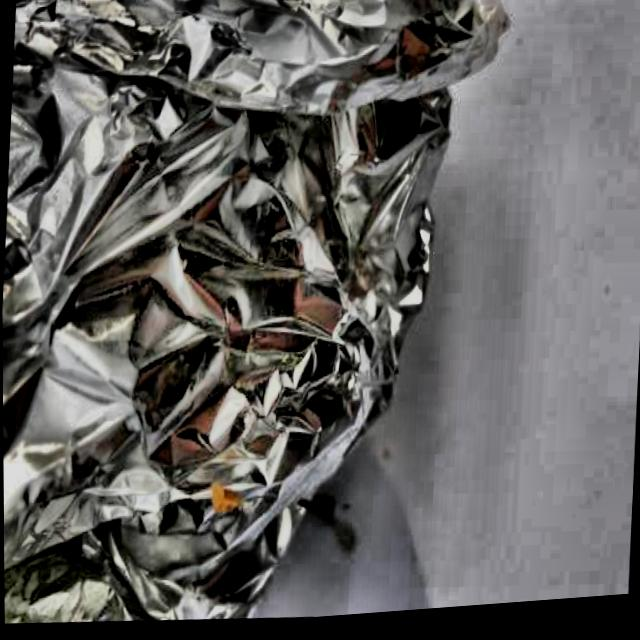Foil: (0, 0, 523, 640)
